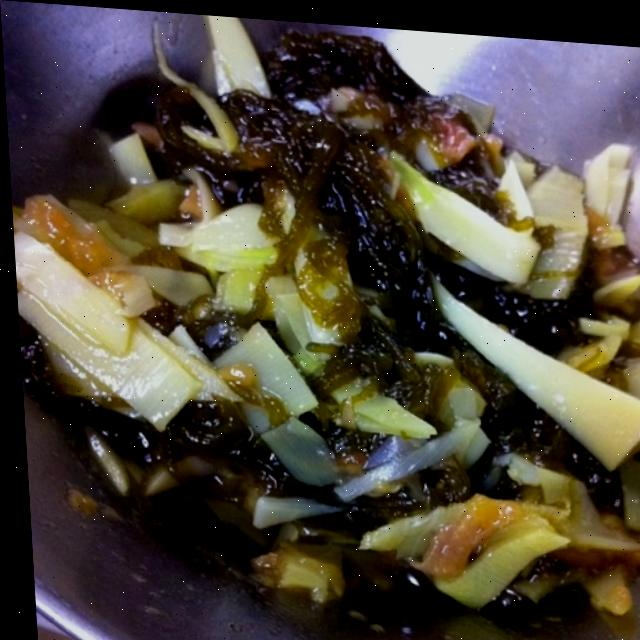蔬菜料理: (16, 28, 640, 609)
